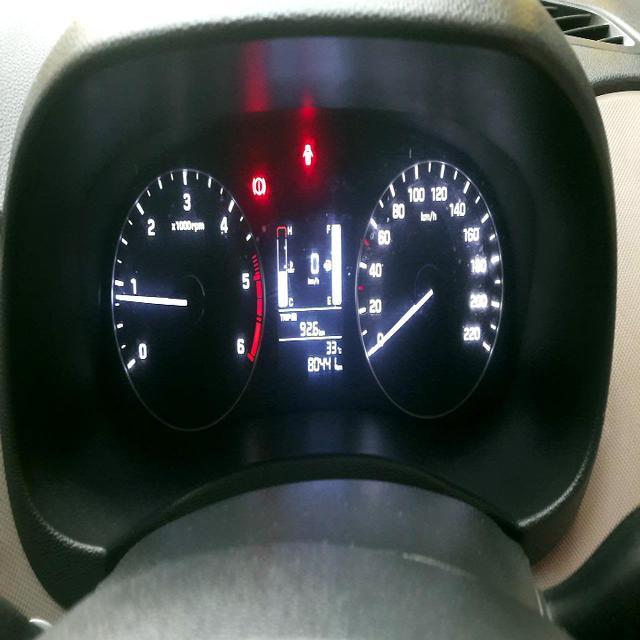odometer: (306, 353, 337, 375)
